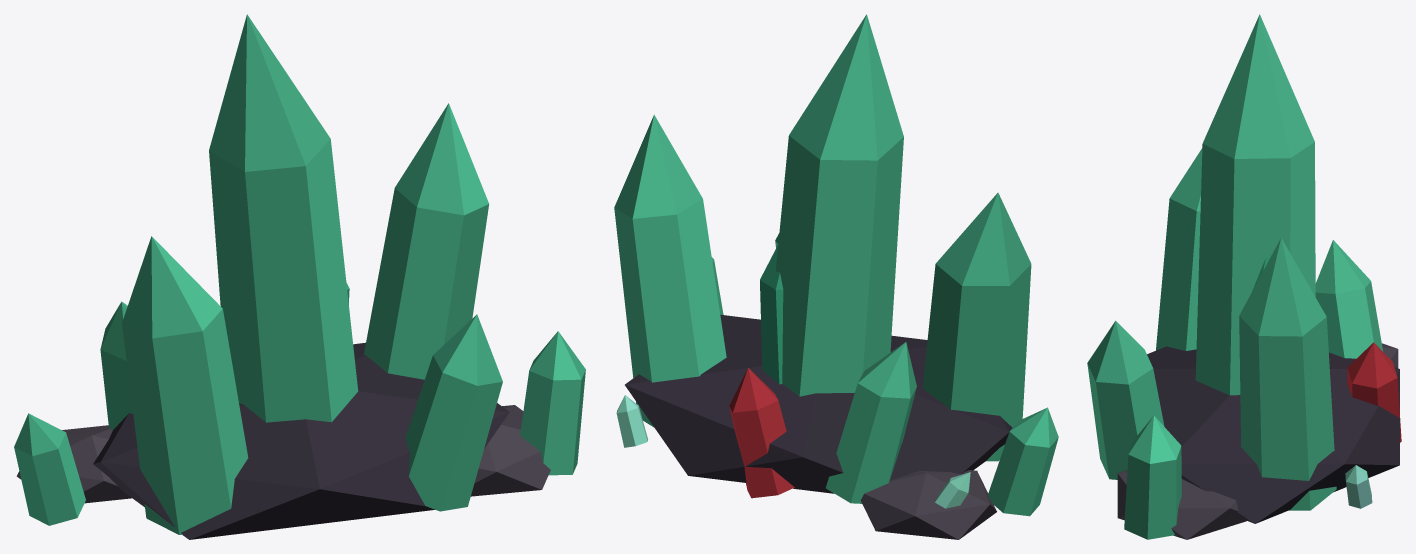
Rendered from Decor_DragonLair_Crystals.fbx.
3 views of the same model, side by side, from view 1: azimuth 30°, elevation 25°; view 2: azimuth 150°, elevation 25°; view 3: azimuth 270°, elevation 25° (orthographic). The views are drawn at different scales.
Visible parts, largest first — view 1: Crystals_Body; view 2: Crystals_Body; view 3: Crystals_Body.
Part boxes in pixels (x1,y1,x2,y2): Crystals_Body: (14, 14, 585, 539); Crystals_Body: (614, 14, 1058, 539); Crystals_Body: (1087, 14, 1401, 539).
Bounding box in the file's own units: 16.07 × 15.36 × 10.15.
